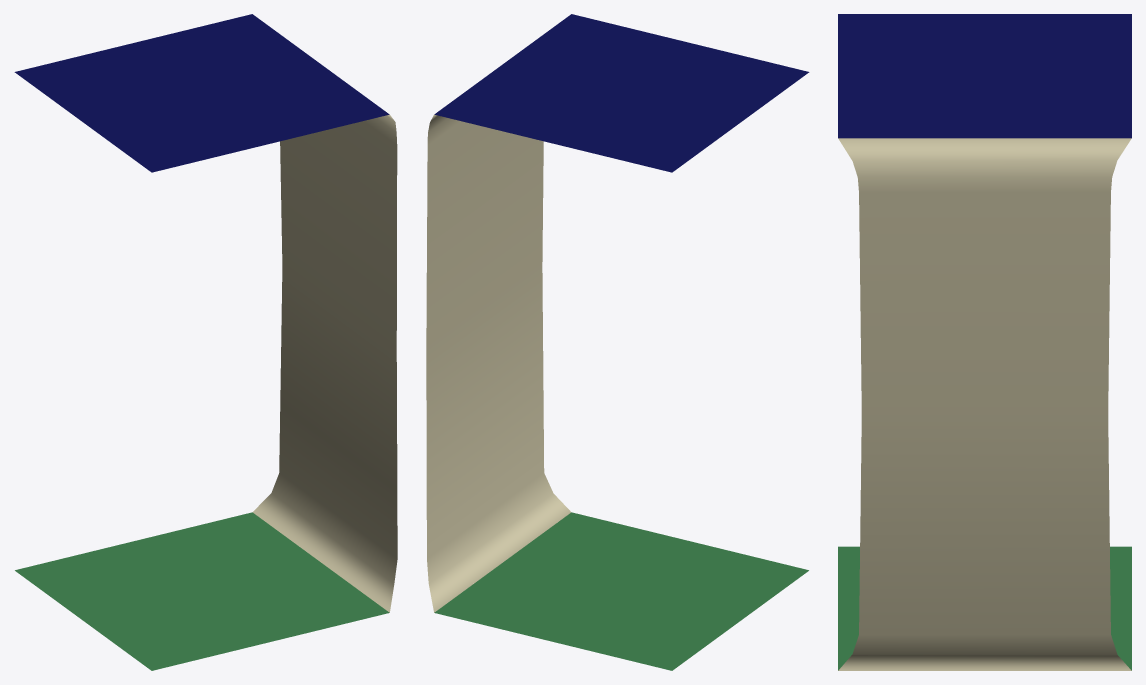
File: ModuleSC_col_02.FBX
3 renders of one model, left to right at view 1: azimuth 30°, elevation 25°; view 2: azimuth 150°, elevation 25°; view 3: azimuth 270°, elevation 25°, orthographic. The views are drawn at different scales.
Parts seen in each view (by area): view 1: ModuleSCs_B_wall_013, ModuleSCs_B_roof_016, ModuleSCs_B_floor_013; view 2: ModuleSCs_B_wall_013, ModuleSCs_B_roof_016, ModuleSCs_B_floor_013; view 3: ModuleSCs_B_wall_013, ModuleSCs_B_roof_016, ModuleSCs_B_floor_013.
Boxes of the visible parts, left/top/right/bottom form: ModuleSCs_B_wall_013: left=252, top=114, right=397, bottom=612; ModuleSCs_B_roof_016: left=14, top=14, right=389, bottom=172; ModuleSCs_B_floor_013: left=15, top=512, right=389, bottom=670; ModuleSCs_B_wall_013: left=426, top=114, right=571, bottom=612; ModuleSCs_B_roof_016: left=434, top=14, right=809, bottom=172; ModuleSCs_B_floor_013: left=434, top=512, right=808, bottom=670; ModuleSCs_B_wall_013: left=838, top=138, right=1131, bottom=670; ModuleSCs_B_roof_016: left=838, top=14, right=1131, bottom=138; ModuleSCs_B_floor_013: left=838, top=546, right=1131, bottom=670.
Size of the model in its own units: 42.49 by 78.74 by 39.37.
